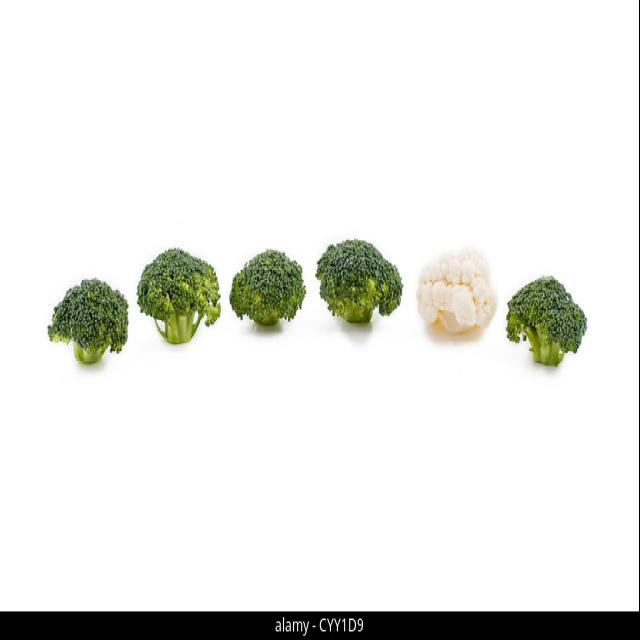broccoli: (134, 245, 222, 347), (44, 276, 132, 366), (504, 276, 589, 368), (316, 238, 403, 325), (230, 250, 307, 329)
